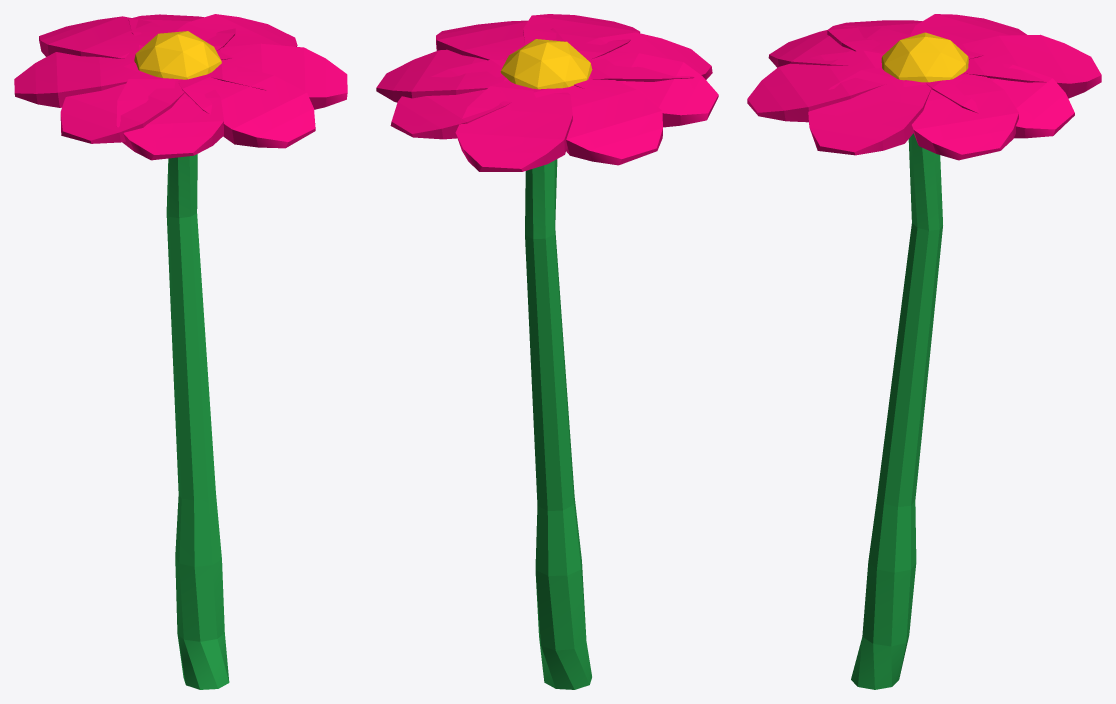
The model's file is flower.obj.
The picture shows the model from 3 angles, left to right: view 1: azimuth 30°, elevation 25°; view 2: azimuth 150°, elevation 25°; view 3: azimuth 270°, elevation 25°; orthographic projection. The views are drawn at different scales.
Visible parts, largest first — view 1: Icosphere.006; view 2: Icosphere.006; view 3: Icosphere.006.
Part boxes in pixels (x1=…): Icosphere.006: x1=14, y1=14, x2=347, y2=689; Icosphere.006: x1=376, y1=14, x2=718, y2=689; Icosphere.006: x1=747, y1=14, x2=1101, y2=689.
Size of the model in its own units: 0.5677 by 1.26 by 0.6329.
Materials: 1 (1 with a texture image).
